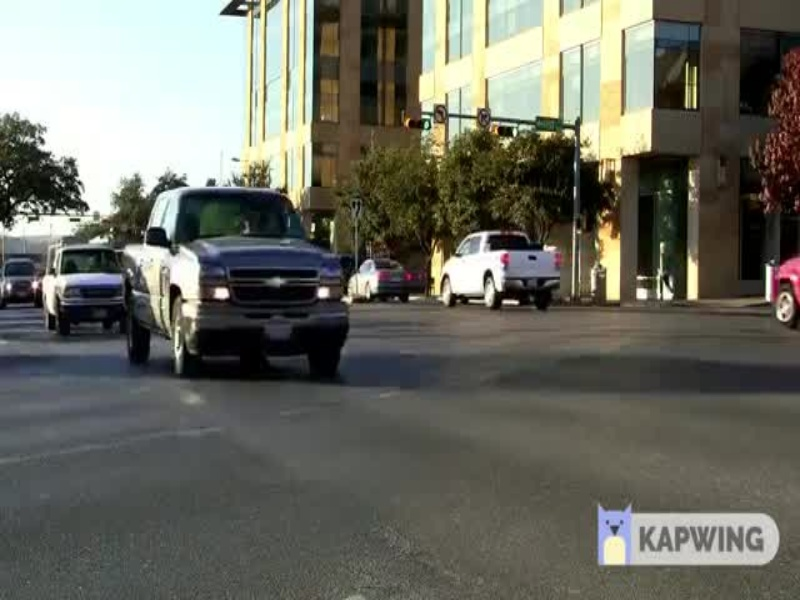car: (350, 258, 413, 309)
truck: (126, 187, 366, 400), (437, 226, 562, 319), (41, 224, 132, 336)
